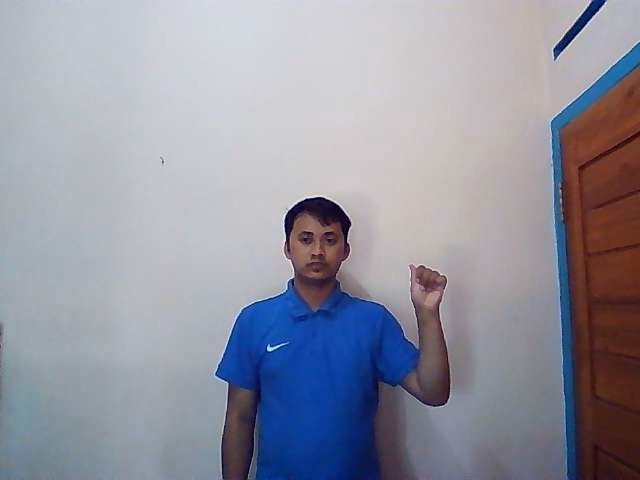A: (408, 263, 447, 310)
